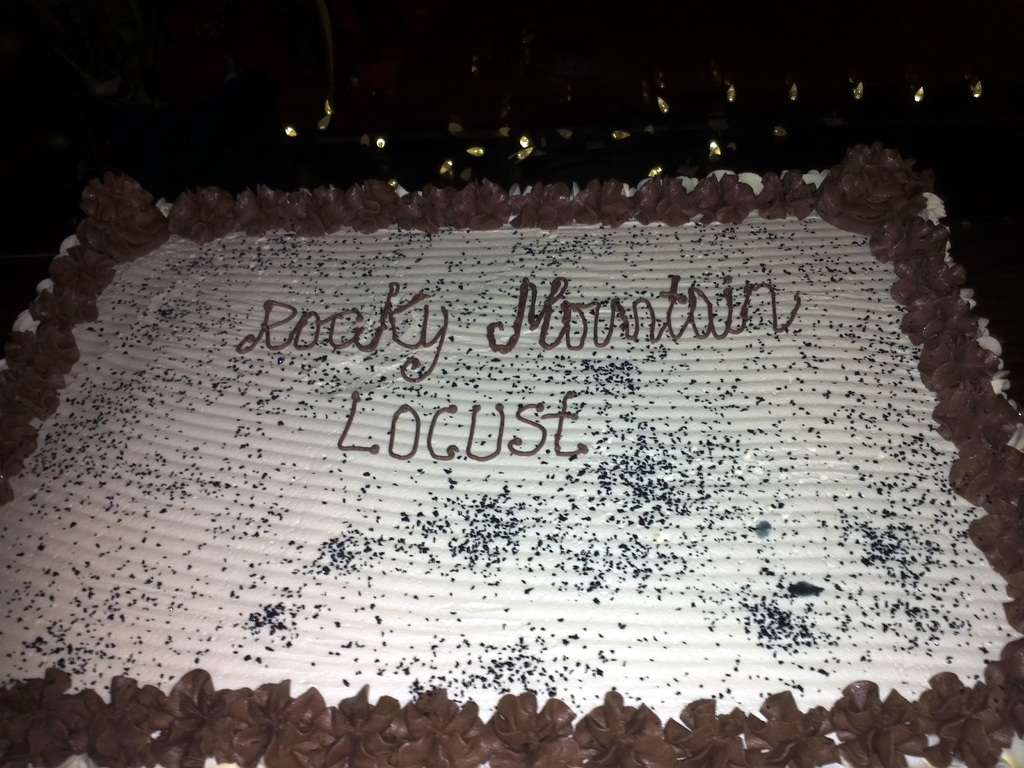cake: (0, 146, 1023, 767)
